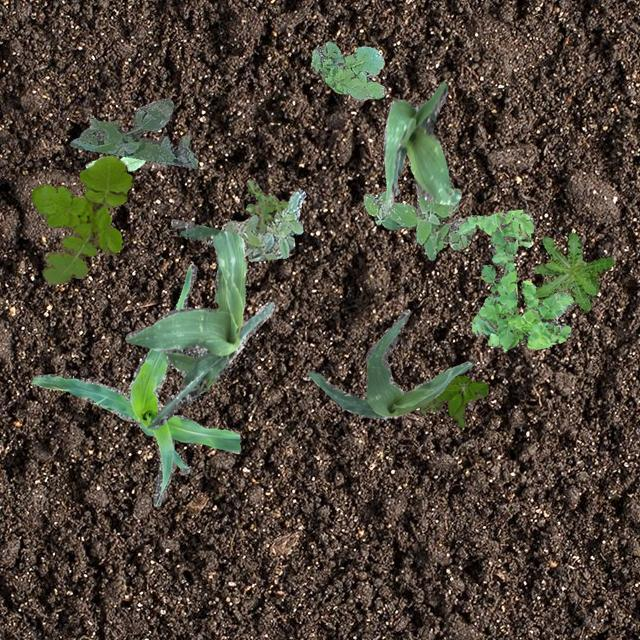crop: (29, 262, 240, 504), (124, 217, 274, 428), (308, 310, 472, 418), (382, 81, 459, 216), (84, 156, 144, 170)
weed: (448, 208, 576, 350), (30, 154, 132, 284), (70, 98, 196, 168), (362, 186, 476, 258), (534, 232, 614, 312), (220, 188, 304, 260), (310, 40, 386, 100), (418, 374, 488, 426), (244, 180, 286, 230)
